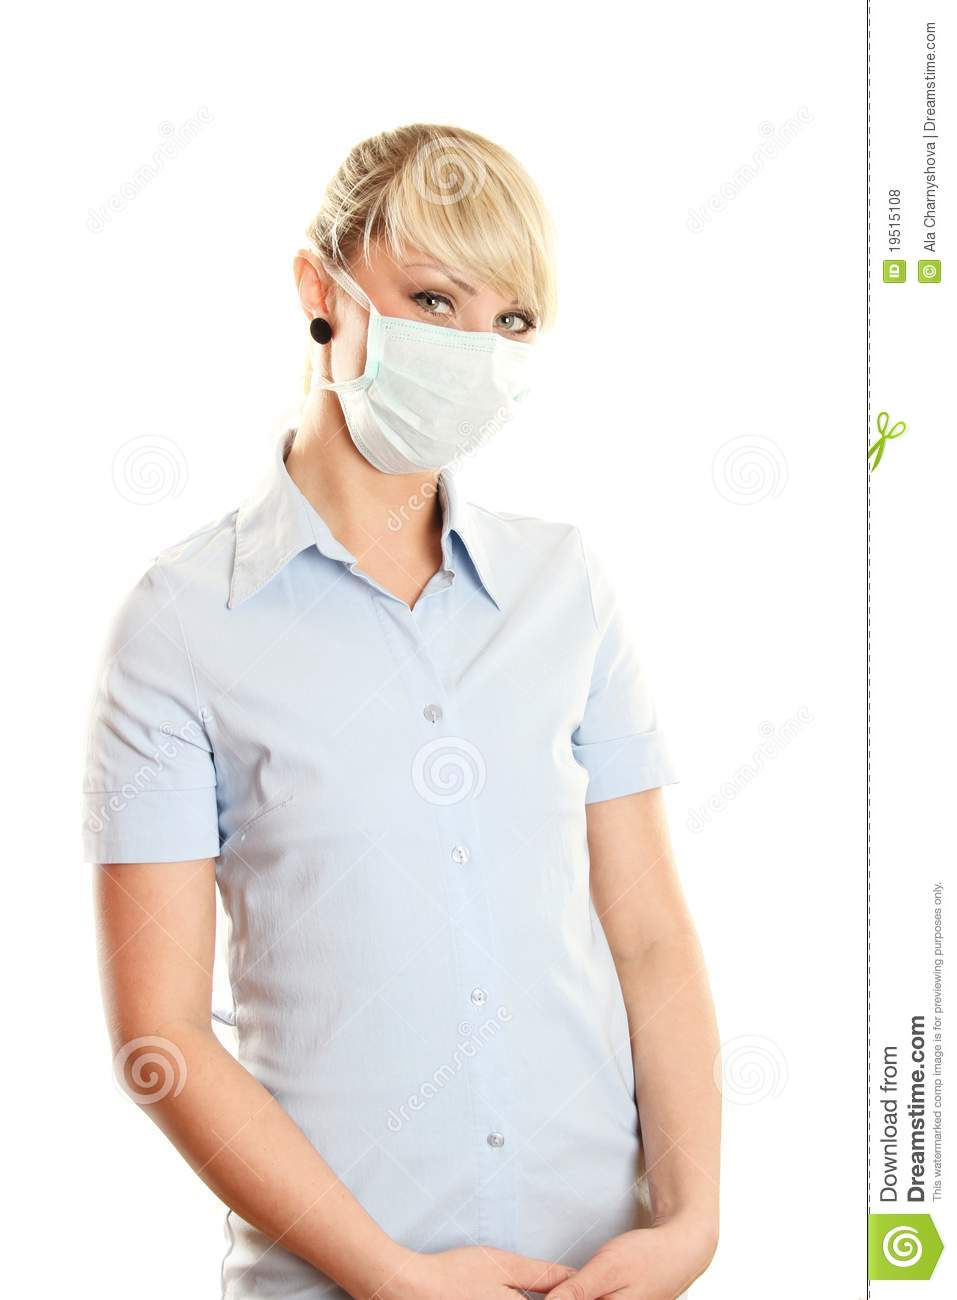mask: (337, 310, 537, 475)
